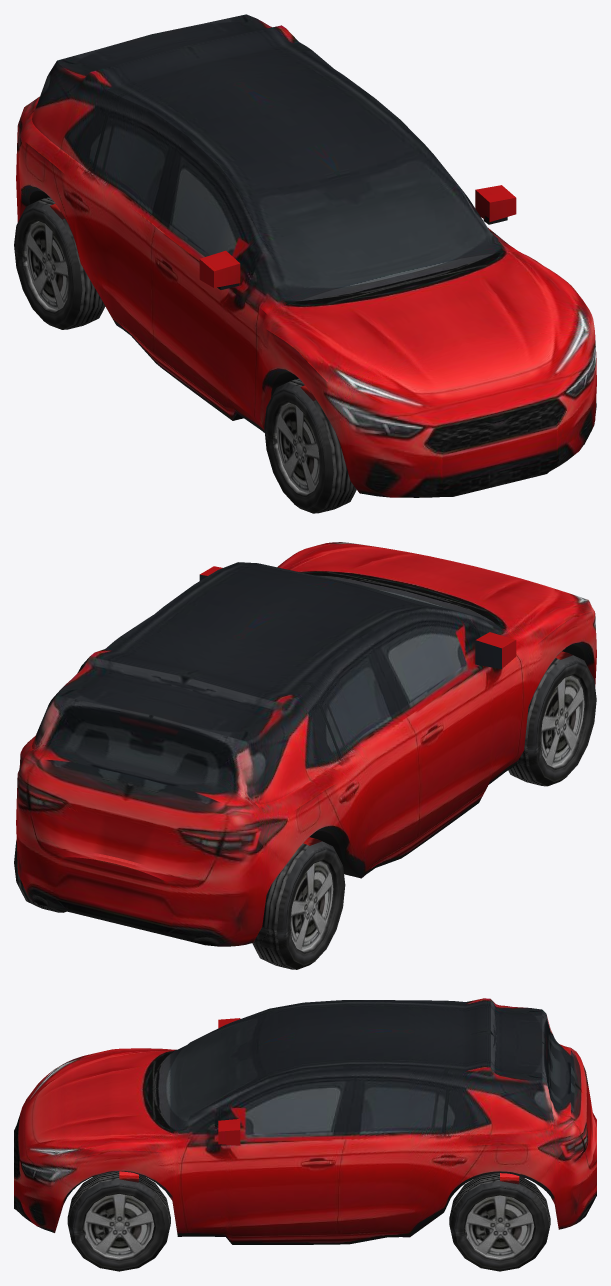
The model's file is hatchback-sports.glb.
3 renders of one model, top to bottom at view 1: azimuth 30°, elevation 25°; view 2: azimuth 150°, elevation 25°; view 3: azimuth 270°, elevation 25°, orthographic. The views are drawn at different scales.
Visible parts, largest first — view 1: body, wheel-front-right, wheel-back-right; view 2: body, wheel-back-right, wheel-front-right; view 3: body, wheel-front-left, wheel-back-left.
Boxes of the visible parts, <box> form: body: <box>16,14,596,497</box>; wheel-front-right: <box>264,378,356,513</box>; wheel-back-right: <box>14,197,105,329</box>; body: <box>16,542,596,946</box>; wheel-back-right: <box>252,837,345,969</box>; wheel-front-right: <box>508,651,596,786</box>; body: <box>14,998,596,1244</box>; wheel-front-left: <box>67,1171,170,1271</box>; wheel-back-left: <box>449,1173,550,1271</box>.
Size of the model in its own units: 1.94 by 1.56 by 4.27.
Materials: 1 (1 with a texture image).
